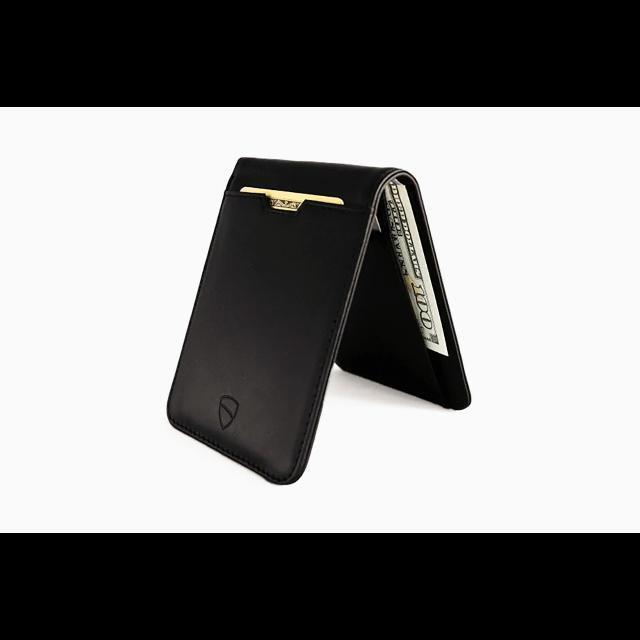wallet: (164, 153, 480, 497)
